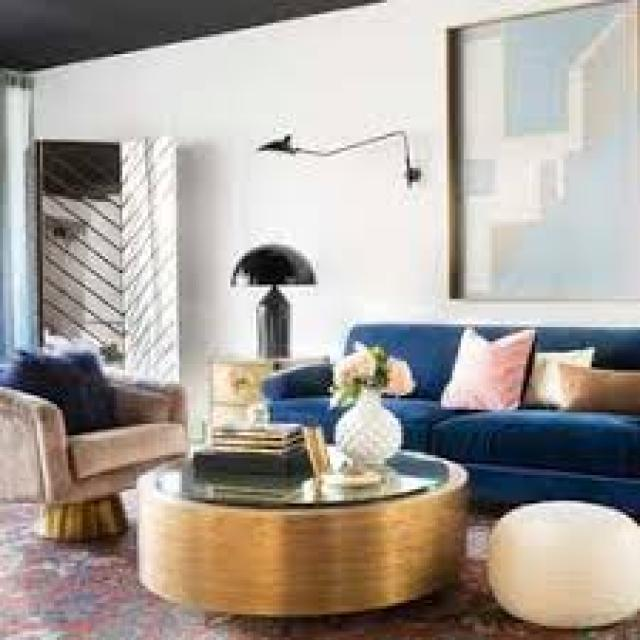Chair: (0, 337, 173, 574)
Lamp: (226, 235, 332, 366)
Sofa: (259, 299, 640, 492)
Table: (146, 418, 471, 624)
